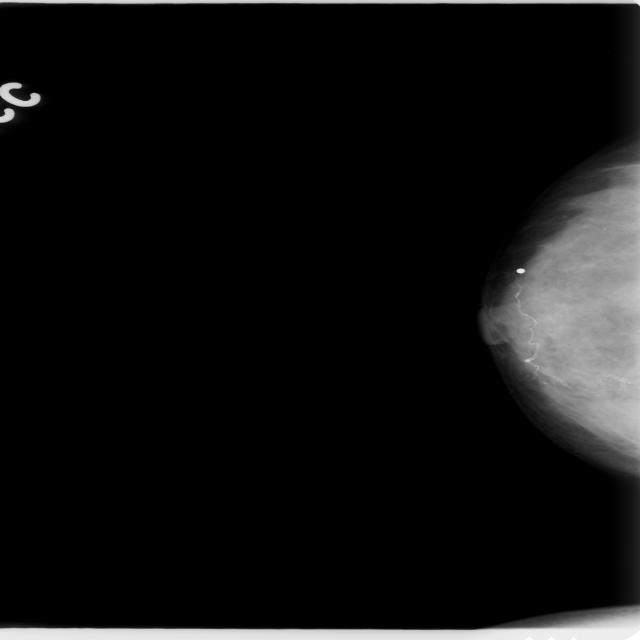normal: (403, 139, 640, 461)
